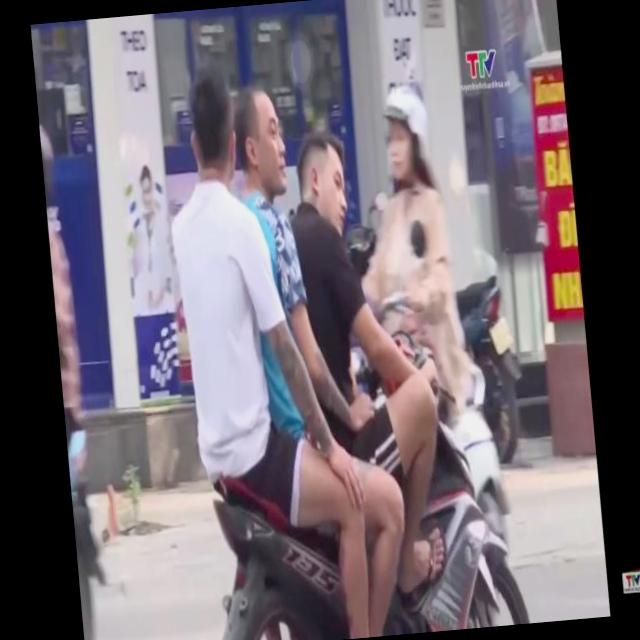motorcycle: (179, 313, 543, 640)
person: (150, 63, 322, 537), (286, 120, 431, 564), (228, 83, 350, 444)
rider_region: (144, 49, 532, 640)
